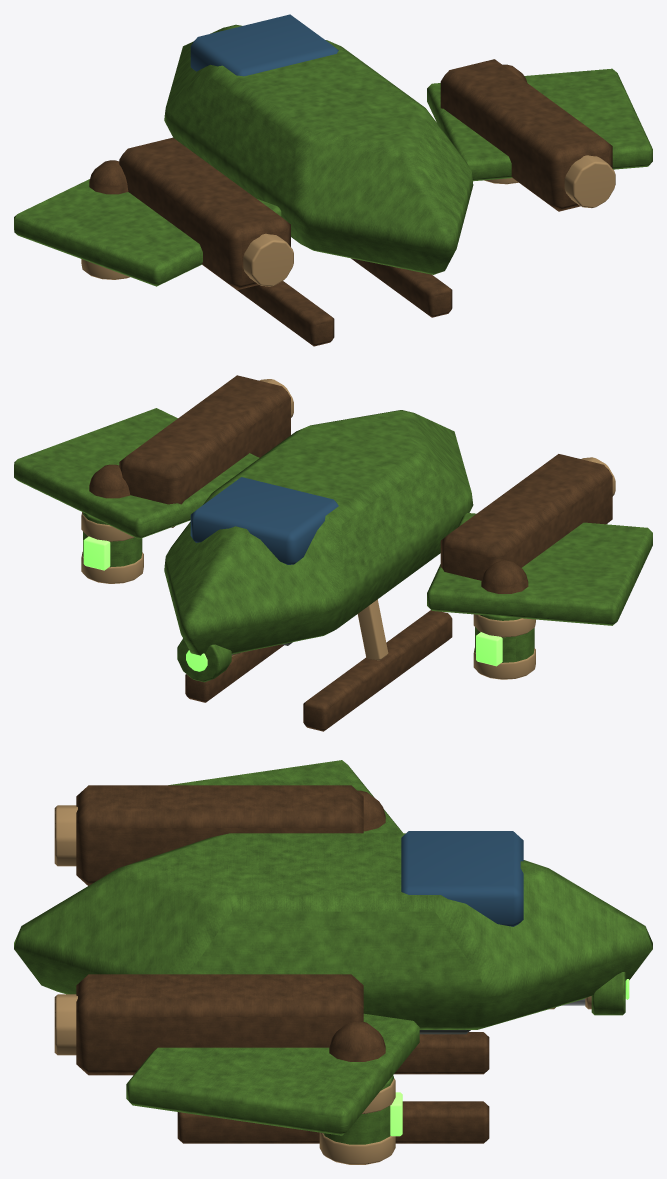
File: vael_frelon.gltf
3 renders of one model, top to bottom at view 1: azimuth 30°, elevation 25°; view 2: azimuth 150°, elevation 25°; view 3: azimuth 270°, elevation 25°, orthographic. The views are drawn at different scales.
Visible parts, largest first — view 1: Root.036_Geometry; view 2: Root.036_Geometry, GunRecoil.012_Geometry; view 3: Root.036_Geometry, GunRecoil.012_Geometry.
Boxes of the visible parts, x1=… form: Root.036_Geometry: x1=14, y1=14, x2=652, y2=346; Root.036_Geometry: x1=14, y1=375, x2=652, y2=731; GunRecoil.012_Geometry: x1=177, y1=638, x2=240, y2=682; Root.036_Geometry: x1=14, y1=760, x2=652, y2=1164; GunRecoil.012_Geometry: x1=549, y1=972, x2=629, y2=1015.
Size of the model in its own units: 3.48 by 1.13 by 2.65.
7 materials, 2 textured.
